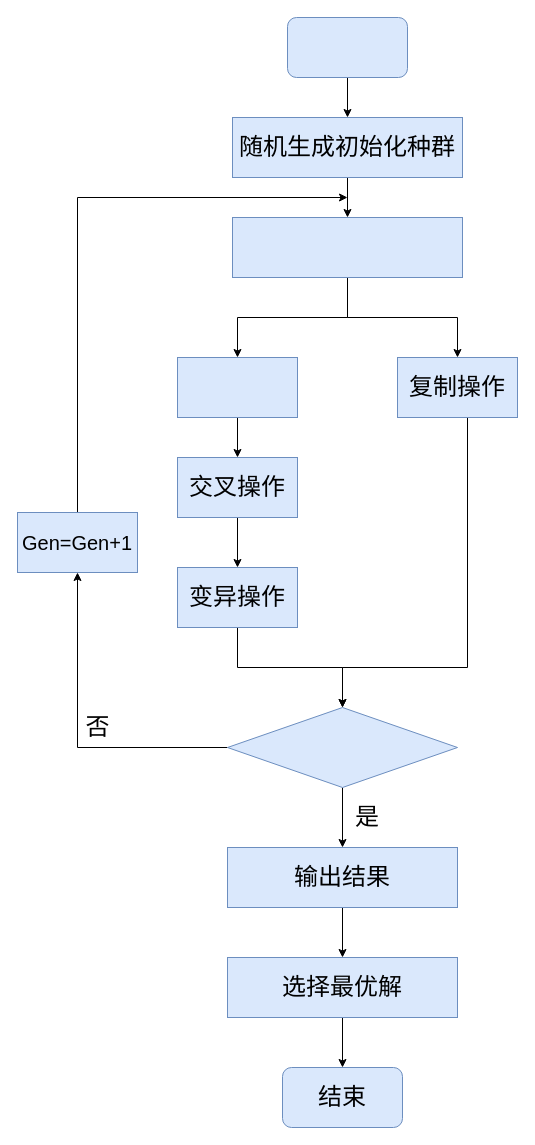
This 535x1145 diagram has some shape labels left out. Each missing label, with the centre of its shape:
"开始" belongs at pixel 347 47.
"满足终止条件" belongs at pixel 342 747.
"计算父代个体 适应度函数值" belongs at pixel 347 247.
"选择操作" belongs at pixel 237 387.
